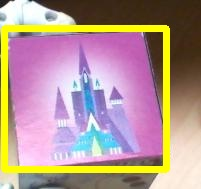Castle4: (4, 28, 166, 169)
